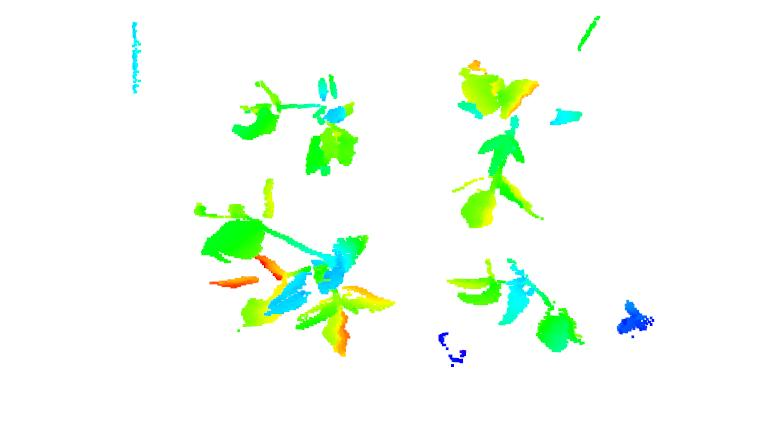mungbean: (191, 199, 402, 357), (443, 54, 552, 232), (228, 73, 363, 180), (442, 258, 595, 352)
